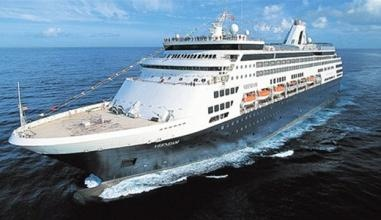youlun: (12, 17, 342, 171)
